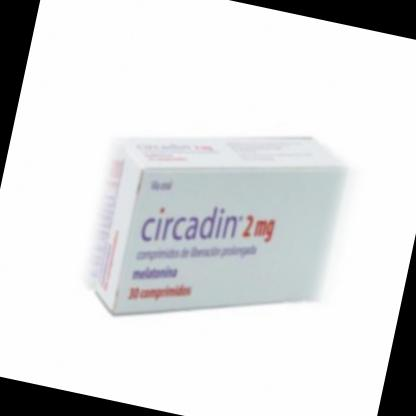box: (79, 102, 352, 354)
